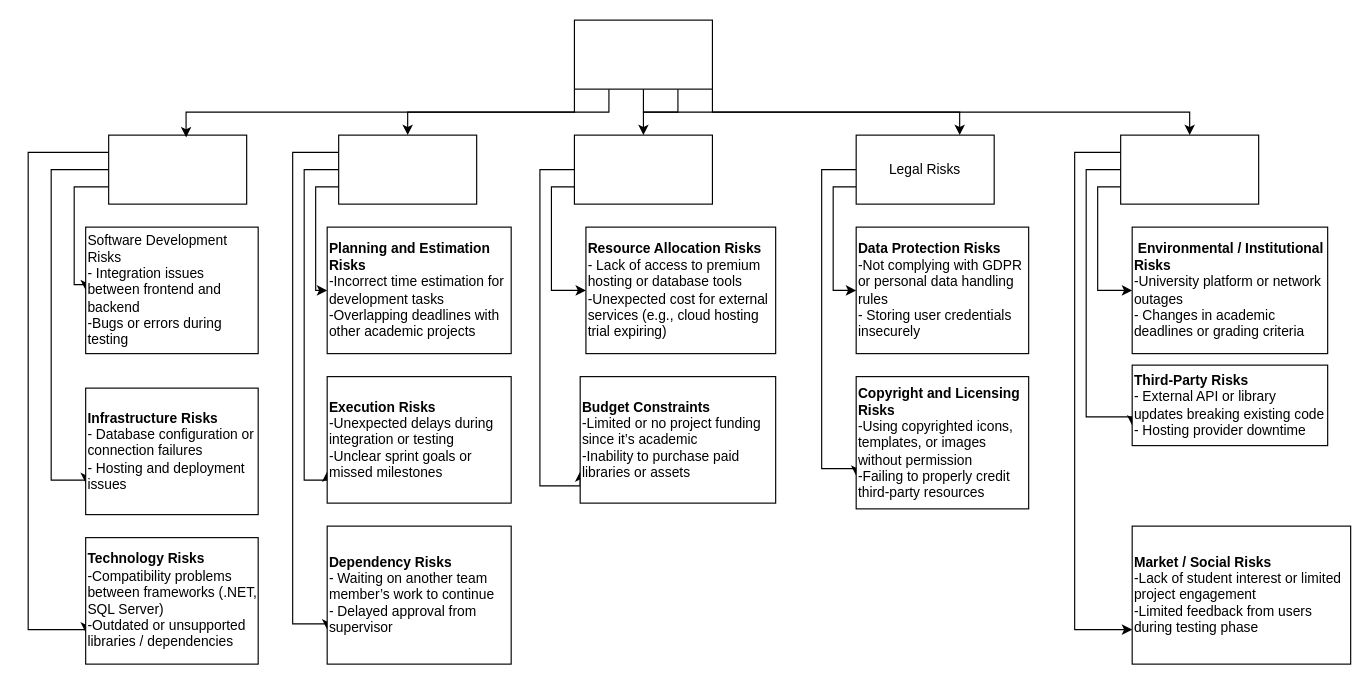
Some shapes in this 1371 by 684 pixel diagram are drawn without their labels. The centre of each missing label's shape, as x and y in pixels:
External Risks: point (1189, 169)
Financial Risks: point (642, 169)
RentAbike Project Risks: point (642, 54)
Schedule Risks: point (407, 169)
Technical Risks: point (177, 169)
